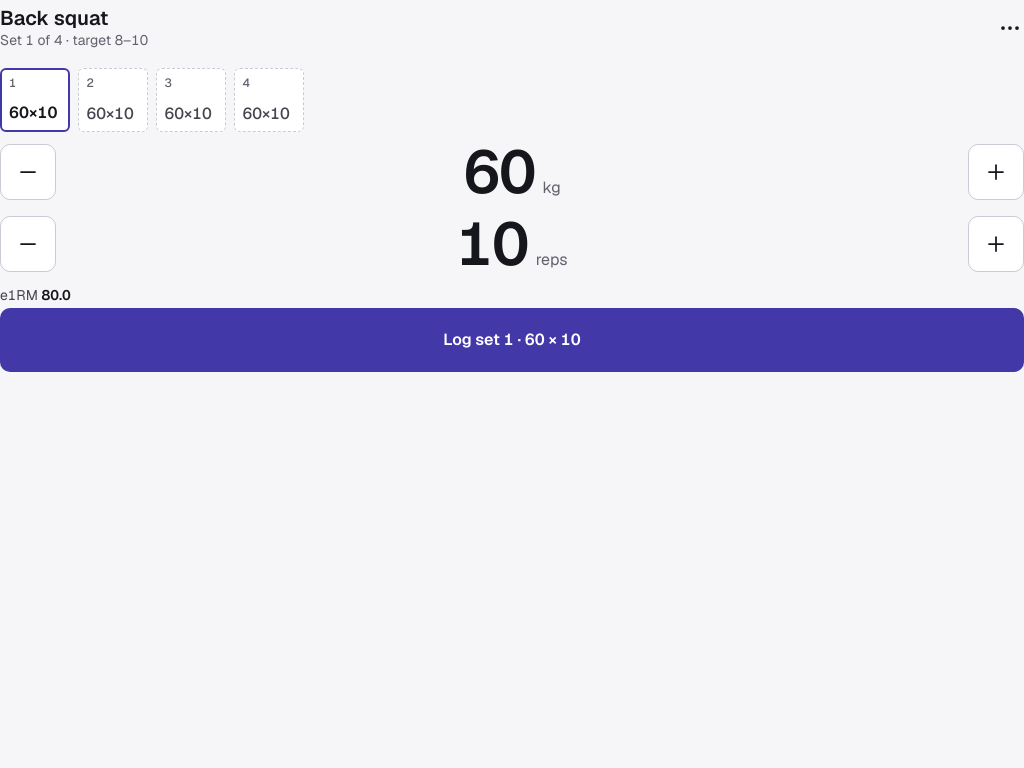
O1 back-squats set screen shows a Step 2.5 kg control by default
Click the button named "Exercise tools" at [1006, 28], box [988,6,1023,50]
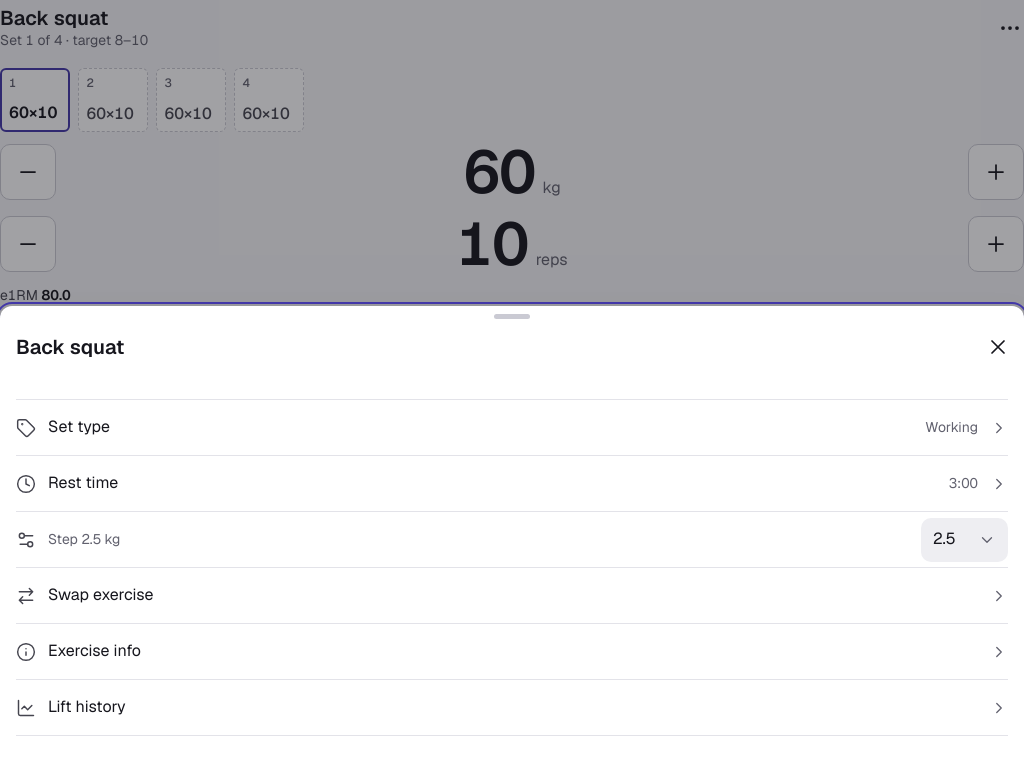
Expected: the dropdown labelled "Step 2.5 kg" is shown, [921,518,1008,562]
